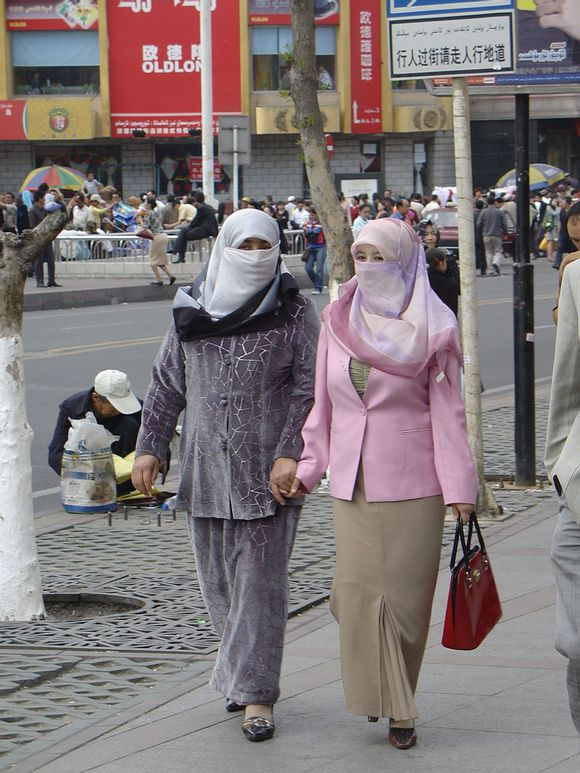face: (422, 225, 435, 248)
face_mask: (230, 228, 272, 290), (353, 236, 391, 293), (92, 390, 112, 420)
